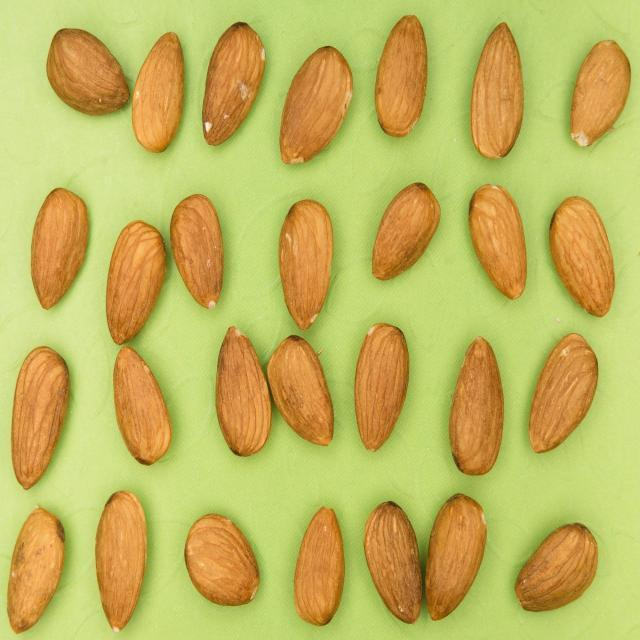almond: (8, 343, 72, 492), (278, 47, 357, 167), (200, 22, 270, 148), (527, 332, 597, 455), (105, 222, 172, 345), (425, 494, 490, 619), (447, 335, 503, 478), (110, 342, 175, 465), (47, 27, 132, 118), (278, 197, 335, 332), (217, 323, 273, 460), (552, 197, 617, 315), (10, 505, 70, 632), (265, 335, 333, 447), (34, 185, 94, 310), (362, 500, 422, 625), (515, 524, 598, 614), (467, 183, 528, 305), (95, 490, 148, 628), (372, 180, 440, 287), (185, 513, 263, 605), (473, 22, 525, 158), (570, 38, 633, 150), (355, 322, 410, 450), (373, 13, 430, 135), (172, 195, 230, 312), (132, 30, 185, 152), (295, 509, 342, 624)
